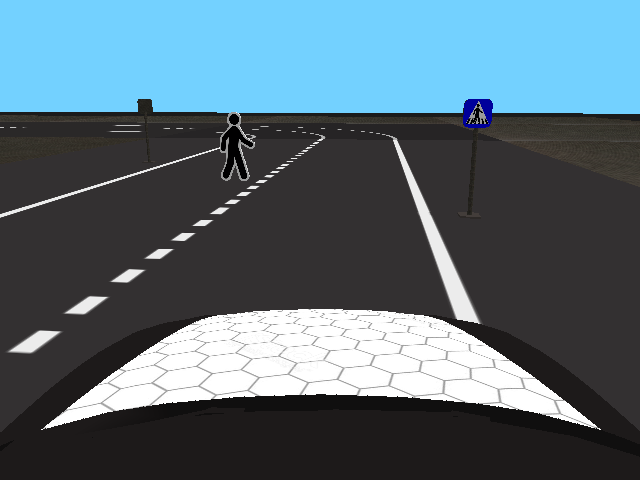pedestrian: (217, 111, 253, 183)
pedestrian_cross: (463, 99, 493, 127)
